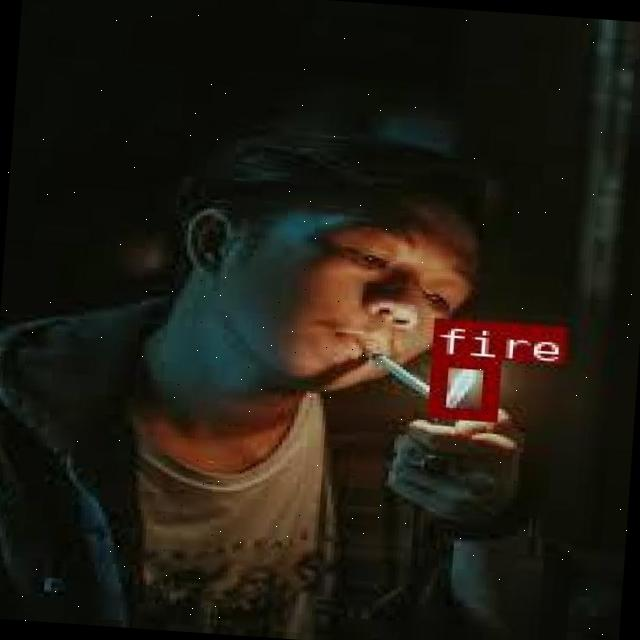fire: (424, 354, 494, 418)
